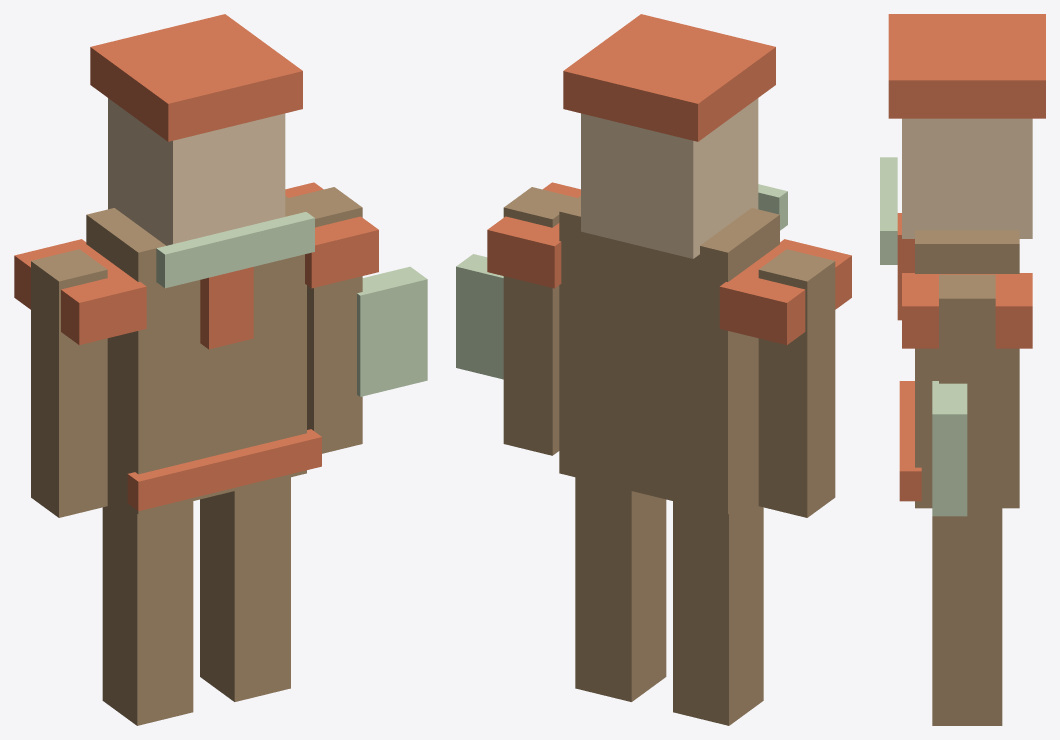
File: 05_calder_stormhush_oracle_from_index.glb
3 renders of one model, left to right at view 1: azimuth 30°, elevation 25°; view 2: azimuth 150°, elevation 25°; view 3: azimuth 270°, elevation 25°, orthographic.
Parts seen in each view (by area): view 1: Calder Stormhush, Oracle from Index; view 2: Calder Stormhush, Oracle from Index; view 3: Calder Stormhush, Oracle from Index.
Boxes of the visible parts, x1,y1,x2,y2 form: Calder Stormhush, Oracle from Index: (14, 14, 427, 725); Calder Stormhush, Oracle from Index: (456, 14, 851, 725); Calder Stormhush, Oracle from Index: (880, 14, 1045, 725).
Size of the model in its own units: 0.9103 by 1.51 by 0.3548.
